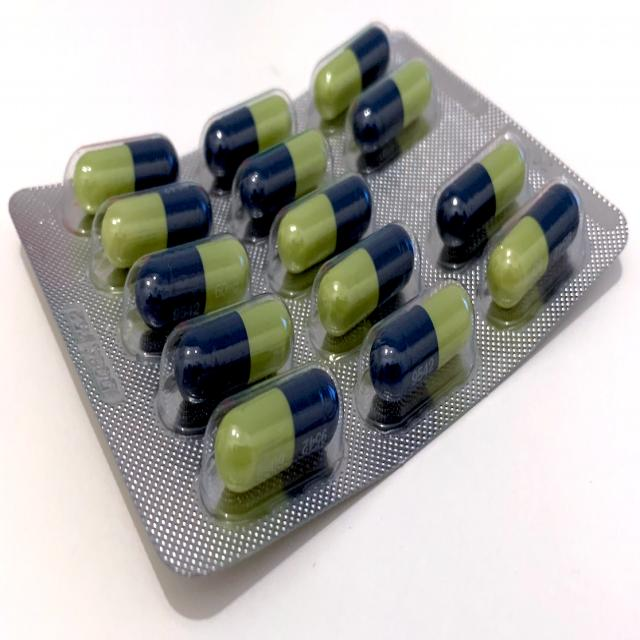Pill: (196, 404, 334, 514), (162, 308, 287, 428), (120, 242, 254, 334), (66, 139, 178, 228), (425, 146, 527, 241), (95, 187, 217, 265), (356, 320, 478, 393), (266, 178, 379, 250), (485, 230, 561, 334), (312, 250, 413, 322), (202, 93, 303, 159), (234, 133, 328, 193), (355, 90, 427, 164), (310, 51, 418, 100)
